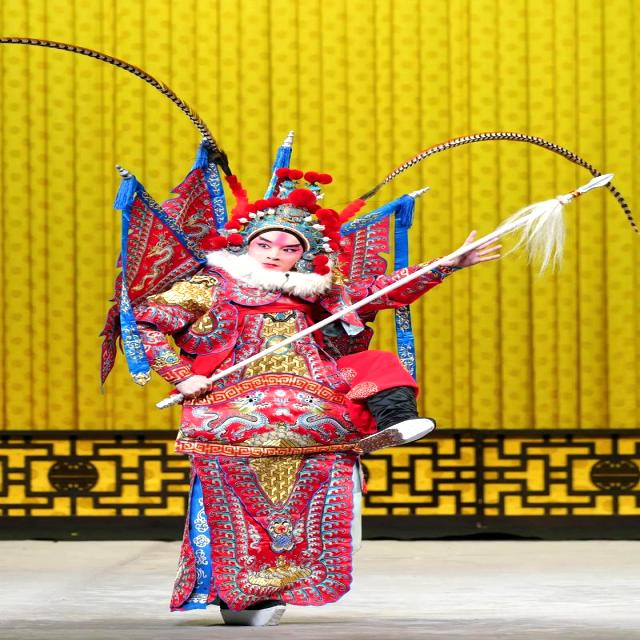Reeves-s Pheasant: (0, 37, 231, 175), (359, 132, 601, 199), (606, 177, 639, 234)
